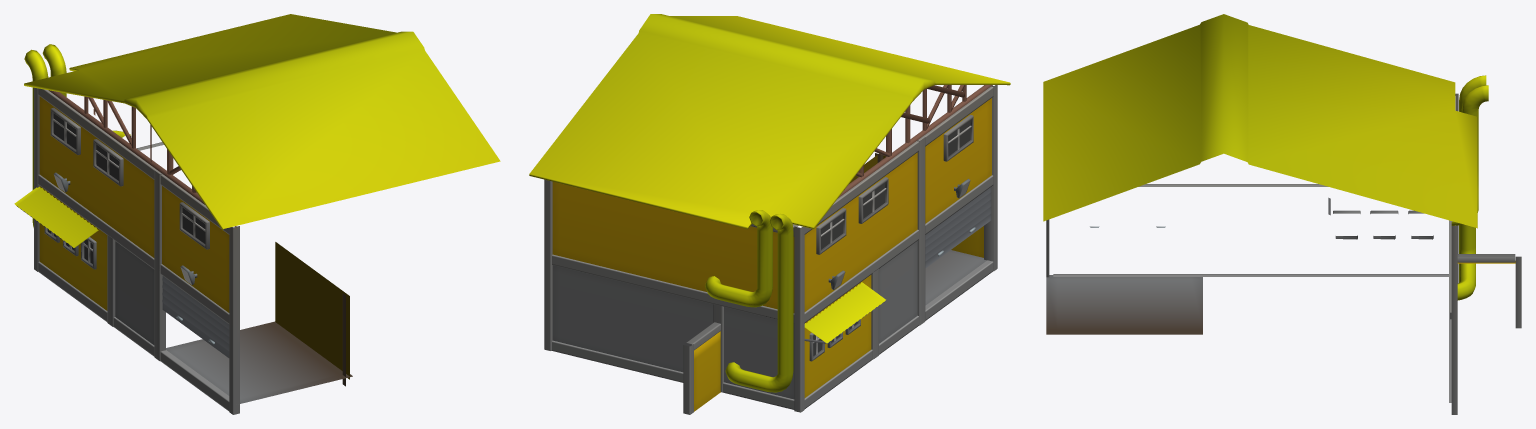
Rendered from Warehouse03.glb.
3 views of the same model, side by side, from view 1: azimuth 30°, elevation 25°; view 2: azimuth 150°, elevation 25°; view 3: azimuth 270°, elevation 25° (orthographic). The views are drawn at different scales.
Parts seen in each view (by area): view 1: Warehouse03; view 2: Warehouse03; view 3: Warehouse03.
Part boxes in pixels (x1,y1,x2,y2): Warehouse03: (14,14,500,414); Warehouse03: (529,14,1010,414); Warehouse03: (1043,14,1521,414).
Bounding box in the file's own units: 20.21 × 16.47 × 27.21.
Materials: 4 (3 with a texture image).
